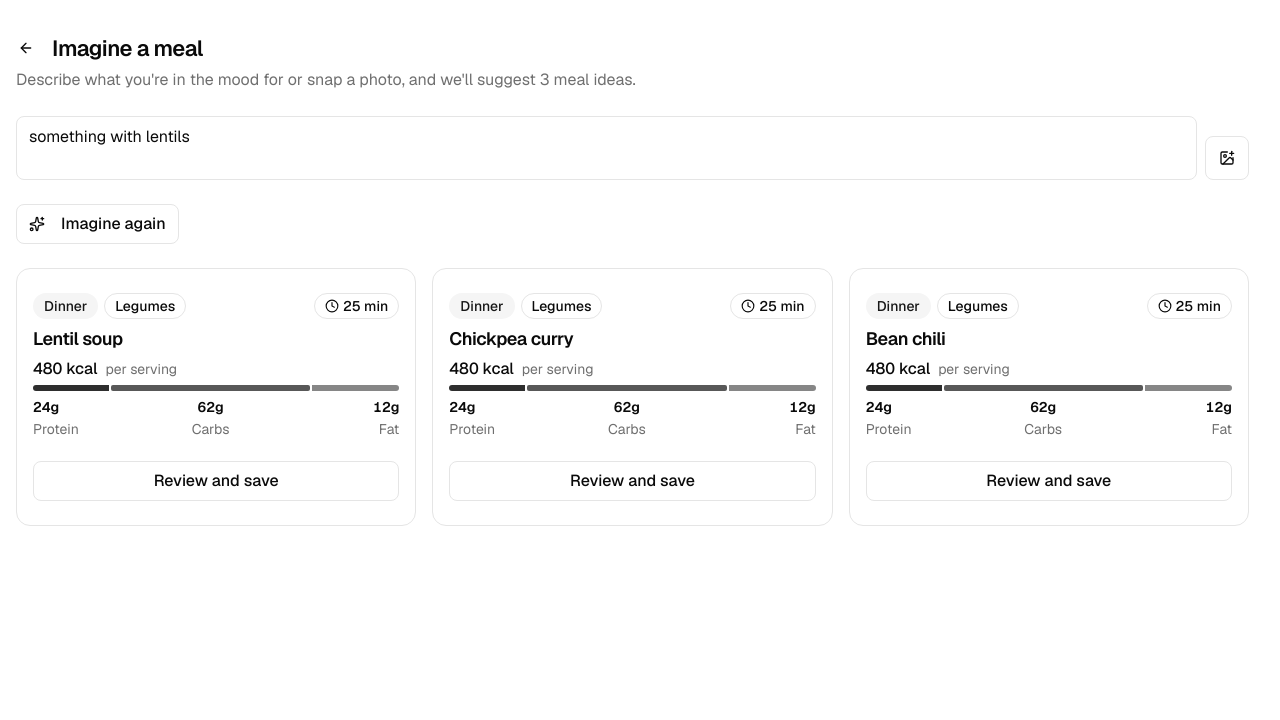
Test: ImagineClient saved ideas (HON-1270) › marks the saved idea, links its recipe, and moves focus to the link
Step 1. Click the button "Review and save" below "Chickpea curry" → (632, 481), box [449,461,816,501]
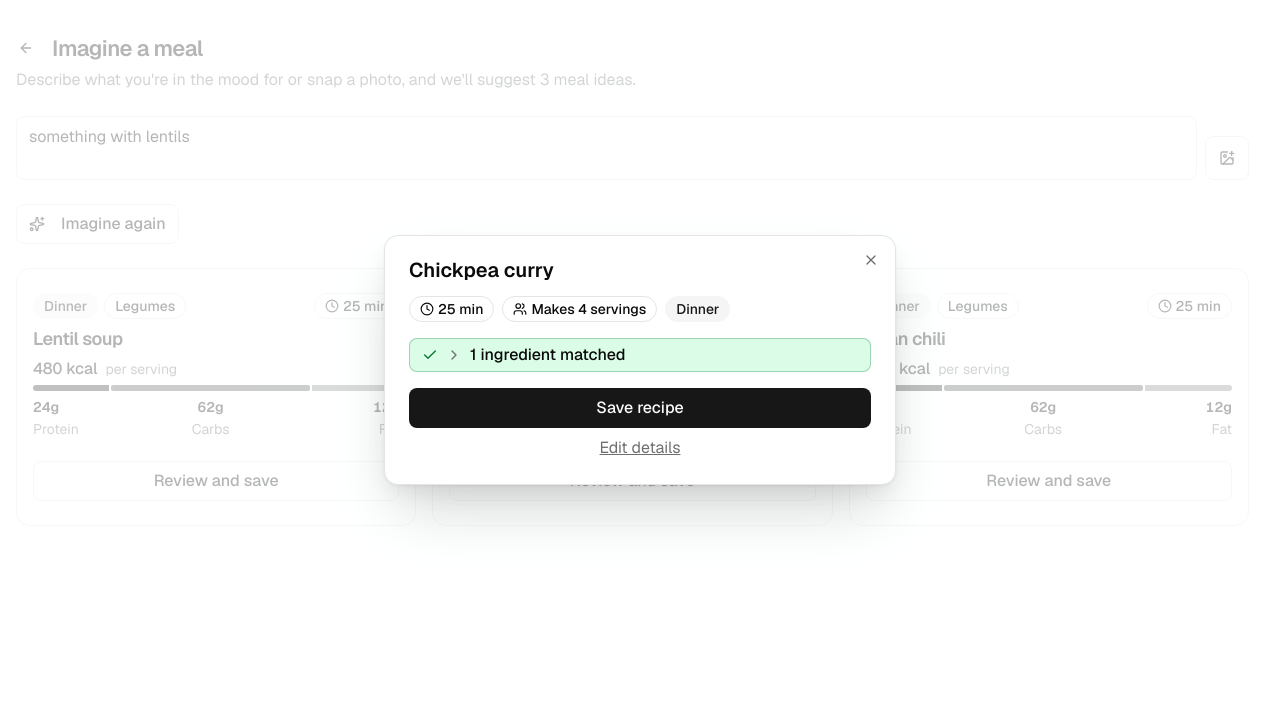
Step 2. Click the button "Save recipe" → (640, 408), box [409,388,871,428]
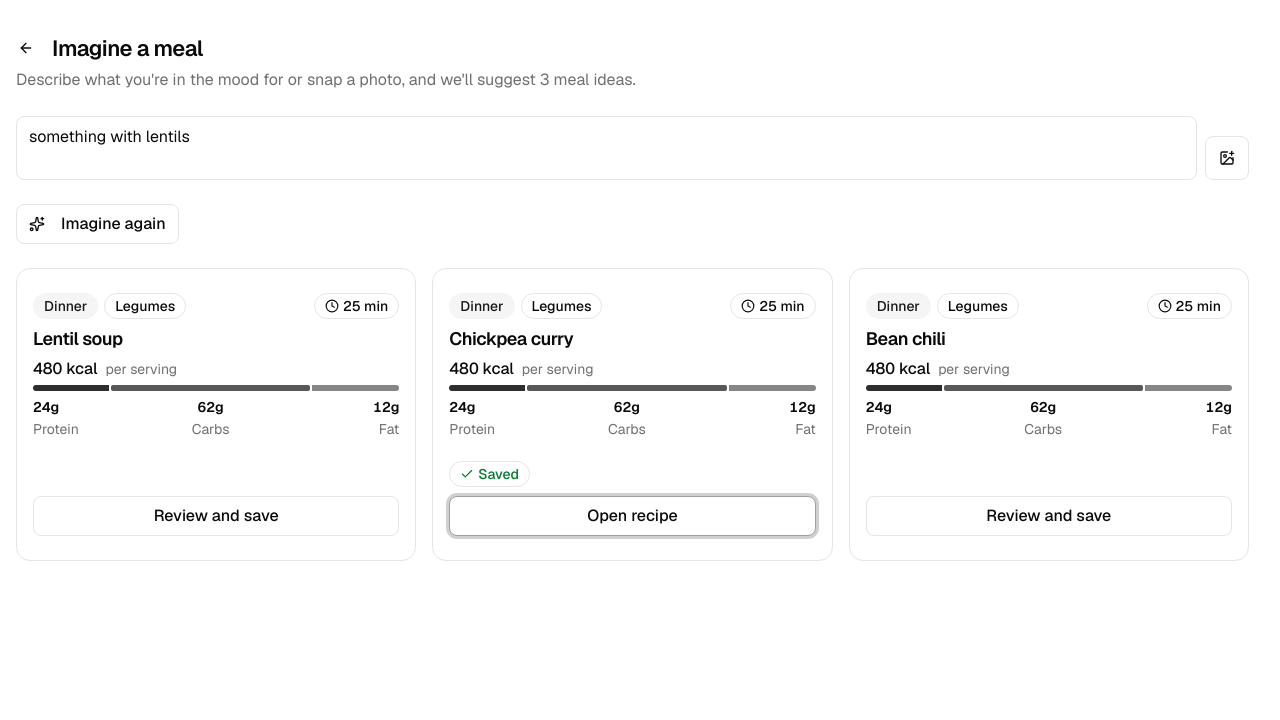
Expected: the button "Review and save" below "Lentil soup" is shown, [33,496,399,536]
Result: the dialog is gone
Result: the button "Saved" is shown at [449,461,530,487]
